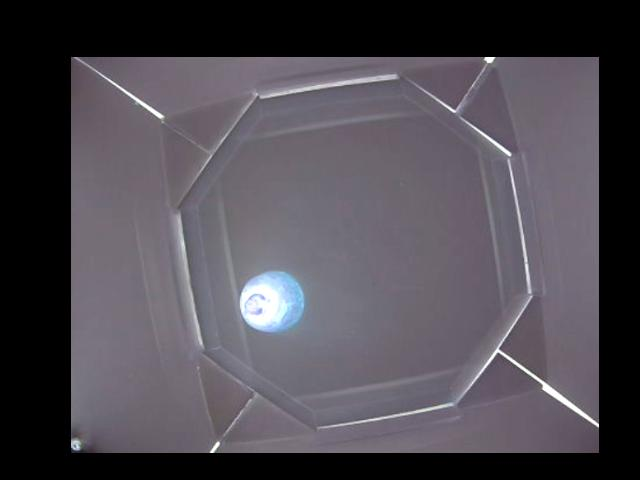Carrot: (238, 271, 306, 334)
